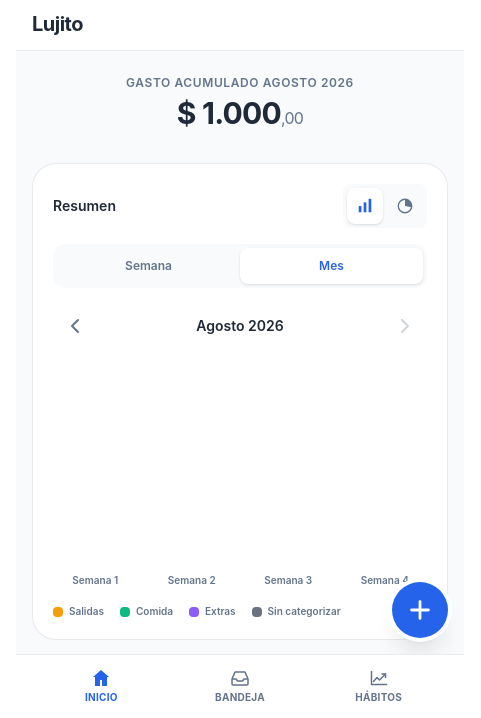
Test: PantallaDashboard › en la pestaña "Semana", sin filasDetalladas el período muestra "Sin datos" en vez de romper
Step 1. Click the button with test id "granularidad-semana" → (148, 266), box [57, 248, 240, 284]
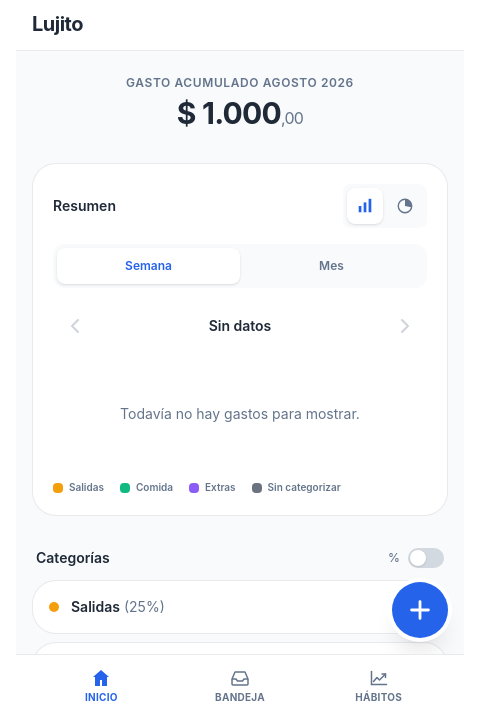
Check: the text with test id "periodo-foco" reads "Sin datos", box [209, 317, 271, 334]
